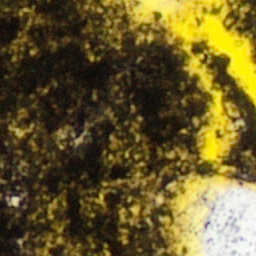cement_matrix: (0, 0, 214, 255), (193, 43, 255, 180), (229, 0, 255, 59), (151, 194, 165, 204), (11, 198, 15, 203)
cracks: (103, 0, 255, 255)
gravel_crushed_stones: (191, 184, 255, 255), (152, 195, 164, 203), (12, 199, 14, 202)
